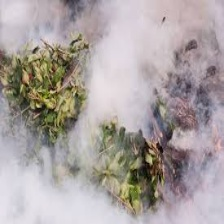smoke: (82, 25, 149, 136), (5, 166, 105, 222)
